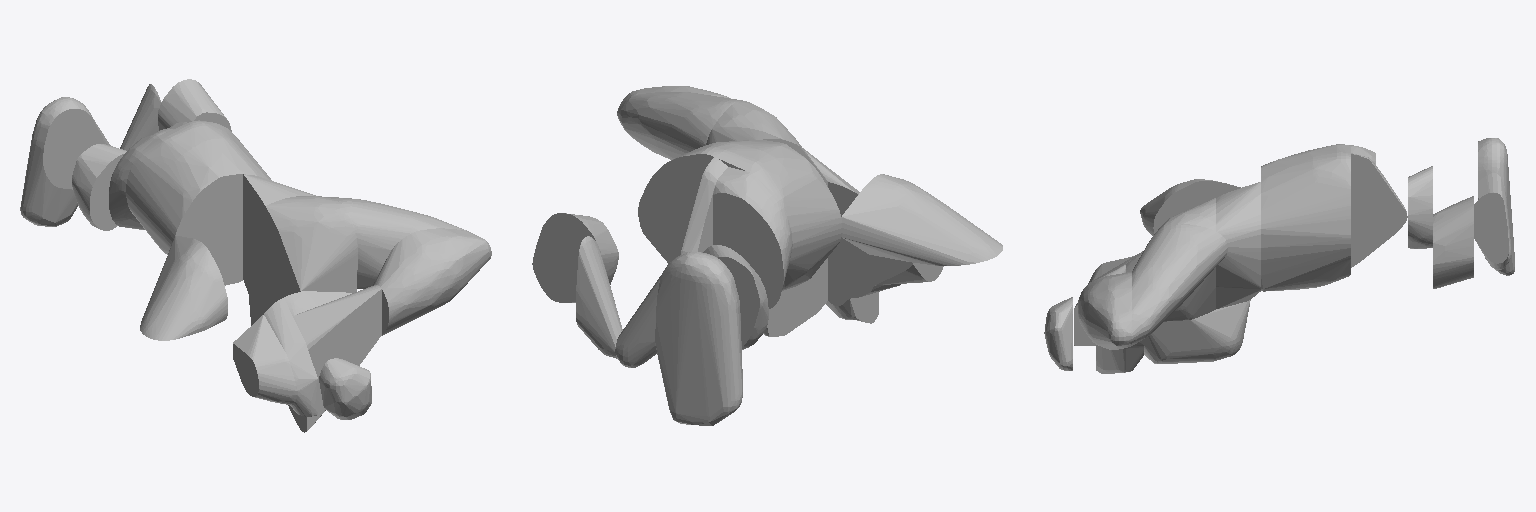
--- What the picture shows (computed from the rendered views, not written in the file) ---
3 views of the same robot in one strip: view 1: azimuth 30°, elevation 25°; view 2: azimuth 150°, elevation 25°; view 3: azimuth 270°, elevation 25° (orthographic).
Robot: root — 30 links, 29 joints (29 fixed); root link link_coacd_convex_piece_0; default pose: all joints at 0.
Links seen in each view (by area): view 1: link_coacd_convex_piece_2, link_coacd_convex_piece_25, link_coacd_convex_piece_0, link_coacd_convex_piece_14, link_coacd_convex_piece_3, link_coacd_convex_piece_23, link_coacd_convex_piece_1, link_coacd_convex_piece_18, link_coacd_convex_piece_29, link_coacd_convex_piece_7, link_coacd_convex_piece_27, link_coacd_convex_piece_28 (+4 smaller); view 2: link_coacd_convex_piece_14, link_coacd_convex_piece_2, link_coacd_convex_piece_3, link_coacd_convex_piece_26, link_coacd_convex_piece_1, link_coacd_convex_piece_5, link_coacd_convex_piece_9, link_coacd_convex_piece_7, link_coacd_convex_piece_17, link_coacd_convex_piece_22, link_coacd_convex_piece_6, link_coacd_convex_piece_15 (+5 smaller); view 3: link_coacd_convex_piece_2, link_coacd_convex_piece_1, link_coacd_convex_piece_29, link_coacd_convex_piece_17, link_coacd_convex_piece_15, link_coacd_convex_piece_0, link_coacd_convex_piece_5, link_coacd_convex_piece_3, link_coacd_convex_piece_9, link_coacd_convex_piece_25, link_coacd_convex_piece_7, link_coacd_convex_piece_28 (+4 smaller).
Boxes of the visible links, x1=… form: link_coacd_convex_piece_2: x1=126, y1=120, x2=271, y2=285; link_coacd_convex_piece_25: x1=265, y1=196, x2=357, y2=308; link_coacd_convex_piece_0: x1=373, y1=228, x2=491, y2=335; link_coacd_convex_piece_14: x1=20, y1=97, x2=96, y2=226; link_coacd_convex_piece_3: x1=140, y1=235, x2=227, y2=340; link_coacd_convex_piece_23: x1=293, y1=285, x2=381, y2=432; link_coacd_convex_piece_1: x1=328, y1=197, x2=466, y2=288; link_coacd_convex_piece_18: x1=233, y1=315, x2=296, y2=404; link_coacd_convex_piece_29: x1=243, y1=174, x2=315, y2=305; link_coacd_convex_piece_7: x1=72, y1=144, x2=126, y2=230; link_coacd_convex_piece_27: x1=264, y1=298, x2=317, y2=416; link_coacd_convex_piece_28: x1=319, y1=358, x2=371, y2=419; link_coacd_convex_piece_14: x1=655, y1=252, x2=742, y2=425; link_coacd_convex_piece_2: x1=638, y1=140, x2=841, y2=290; link_coacd_convex_piece_3: x1=842, y1=174, x2=1002, y2=265; link_coacd_convex_piece_26: x1=713, y1=167, x2=792, y2=308; link_coacd_convex_piece_1: x1=617, y1=92, x2=742, y2=159; link_coacd_convex_piece_5: x1=532, y1=213, x2=618, y2=302; link_coacd_convex_piece_9: x1=576, y1=236, x2=622, y2=358; link_coacd_convex_piece_7: x1=703, y1=245, x2=768, y2=349; link_coacd_convex_piece_17: x1=763, y1=258, x2=827, y2=336; link_coacd_convex_piece_22: x1=826, y1=182, x2=860, y2=320; link_coacd_convex_piece_6: x1=615, y1=276, x2=660, y2=367; link_coacd_convex_piece_15: x1=681, y1=157, x2=727, y2=254; link_coacd_convex_piece_2: x1=1261, y1=144, x2=1350, y2=291; link_coacd_convex_piece_1: x1=1132, y1=224, x2=1227, y2=345; link_coacd_convex_piece_29: x1=1216, y1=182, x2=1260, y2=308; link_coacd_convex_piece_17: x1=1144, y1=300, x2=1250, y2=363; link_coacd_convex_piece_15: x1=1351, y1=153, x2=1407, y2=267; link_coacd_convex_piece_0: x1=1078, y1=272, x2=1131, y2=349; link_coacd_convex_piece_5: x1=1433, y1=196, x2=1473, y2=288; link_coacd_convex_piece_3: x1=1140, y1=179, x2=1240, y2=235; link_coacd_convex_piece_9: x1=1474, y1=193, x2=1508, y2=269; link_coacd_convex_piece_25: x1=1154, y1=198, x2=1215, y2=321; link_coacd_convex_piece_7: x1=1408, y1=166, x2=1432, y2=248; link_coacd_convex_piece_28: x1=1044, y1=297, x2=1072, y2=370.
Size in the robot's own frame: 0.0504 by 0.0623 by 0.0328 metres.
Meshes: 30 distinct files referenced, 19 mesh visuals loaded (19 OBJ); not drawn: 11 (reference not matched to a file when rendering).

The robot description file, URDF, robot "root":
<robot name="root">
  <link name="link_coacd_convex_piece_0">
    <inertial>
      <origin xyz="0 0 0" rpy="0 0 0"/>
      <inertia ixx="3.08E-10" ixy="2.32E-10" ixz="-2.26E-11" iyy="1.85E-10" iyz="1.93E-11" izz="4.90E-10"/>
    </inertial>
    <visual>
      <origin xyz="0 0 0" rpy="0 0 0"/>
      <geometry>
        <mesh filename="coacd_convex_piece_0.obj" scale="1.0000E+00 1.0000E+00 1.0000E+00"/>
      </geometry>
      <material name="">
        <color rgba="7.50E-01 7.50E-01 7.50E-01 1"/>
      </material>
    </visual>
    <collision>
      <origin xyz="0 0 0" rpy="0 0 0"/>
      <geometry>
        <mesh filename="coacd_convex_piece_0.obj" scale="1.0000E+00 1.0000E+00 1.0000E+00"/>
      </geometry>
    </collision>
  </link>
  <link name="link_coacd_convex_piece_1">
    <inertial>
      <origin xyz="0 0 0" rpy="0 0 0"/>
      <inertia ixx="1.88E-10" ixy="1.73E-10" ixz="-5.47E-11" iyy="1.91E-10" iyz="4.83E-11" izz="3.44E-10"/>
    </inertial>
    <visual>
      <origin xyz="0 0 0" rpy="0 0 0"/>
      <geometry>
        <mesh filename="coacd_convex_piece_1.obj" scale="1.0000E+00 1.0000E+00 1.0000E+00"/>
      </geometry>
      <material name="">
        <color rgba="7.50E-01 7.50E-01 7.50E-01 1"/>
      </material>
    </visual>
    <collision>
      <origin xyz="0 0 0" rpy="0 0 0"/>
      <geometry>
        <mesh filename="coacd_convex_piece_1.obj" scale="1.0000E+00 1.0000E+00 1.0000E+00"/>
      </geometry>
    </collision>
  </link>
  <joint name="link_coacd_convex_piece_1_joint" type="fixed">
    <origin xyz="0 0 0" rpy="0 0 0"/>
    <parent link="link_coacd_convex_piece_0"/>
    <child link="link_coacd_convex_piece_1"/>
  </joint>
  <link name="link_coacd_convex_piece_2">
    <inertial>
      <origin xyz="0 0 0" rpy="0 0 0"/>
      <inertia ixx="1.61E-10" ixy="1.76E-11" ixz="2.02E-11" iyy="1.81E-10" iyz="-7.68E-11" izz="7.99E-11"/>
    </inertial>
    <visual>
      <origin xyz="0 0 0" rpy="0 0 0"/>
      <geometry>
        <mesh filename="coacd_convex_piece_2.obj" scale="1.0000E+00 1.0000E+00 1.0000E+00"/>
      </geometry>
      <material name="">
        <color rgba="7.50E-01 7.50E-01 7.50E-01 1"/>
      </material>
    </visual>
    <collision>
      <origin xyz="0 0 0" rpy="0 0 0"/>
      <geometry>
        <mesh filename="coacd_convex_piece_2.obj" scale="1.0000E+00 1.0000E+00 1.0000E+00"/>
      </geometry>
    </collision>
  </link>
  <joint name="link_coacd_convex_piece_2_joint" type="fixed">
    <origin xyz="0 0 0" rpy="0 0 0"/>
    <parent link="link_coacd_convex_piece_1"/>
    <child link="link_coacd_convex_piece_2"/>
  </joint>
  <link name="link_coacd_convex_piece_3">
    <inertial>
      <origin xyz="0 0 0" rpy="0 0 0"/>
      <inertia ixx="6.12E-11" ixy="-6.95E-11" ixz="1.41E-11" iyy="8.54E-11" iyz="9.16E-12" izz="1.43E-10"/>
    </inertial>
    <visual>
      <origin xyz="0 0 0" rpy="0 0 0"/>
      <geometry>
        <mesh filename="coacd_convex_piece_3.obj" scale="1.0000E+00 1.0000E+00 1.0000E+00"/>
      </geometry>
      <material name="">
        <color rgba="7.50E-01 7.50E-01 7.50E-01 1"/>
      </material>
    </visual>
    <collision>
      <origin xyz="0 0 0" rpy="0 0 0"/>
      <geometry>
        <mesh filename="coacd_convex_piece_3.obj" scale="1.0000E+00 1.0000E+00 1.0000E+00"/>
      </geometry>
    </collision>
  </link>
  <joint name="link_coacd_convex_piece_3_joint" type="fixed">
    <origin xyz="0 0 0" rpy="0 0 0"/>
    <parent link="link_coacd_convex_piece_2"/>
    <child link="link_coacd_convex_piece_3"/>
  </joint>
  <link name="link_coacd_convex_piece_4">
    <inertial>
      <origin xyz="0 0 0" rpy="0 0 0"/>
      <inertia ixx="2.09E-10" ixy="8.08E-11" ixz="2.18E-11" iyy="4.99E-11" iyz="-5.84E-11" izz="2.27E-10"/>
    </inertial>
    <visual>
      <origin xyz="0 0 0" rpy="0 0 0"/>
      <geometry>
        <mesh filename="coacd_convex_piece_4.obj" scale="1.0000E+00 1.0000E+00 1.0000E+00"/>
      </geometry>
      <material name="">
        <color rgba="7.50E-01 7.50E-01 7.50E-01 1"/>
      </material>
    </visual>
    <collision>
      <origin xyz="0 0 0" rpy="0 0 0"/>
      <geometry>
        <mesh filename="coacd_convex_piece_4.obj" scale="1.0000E+00 1.0000E+00 1.0000E+00"/>
      </geometry>
    </collision>
  </link>
  <joint name="link_coacd_convex_piece_4_joint" type="fixed">
    <origin xyz="0 0 0" rpy="0 0 0"/>
    <parent link="link_coacd_convex_piece_3"/>
    <child link="link_coacd_convex_piece_4"/>
  </joint>
  <link name="link_coacd_convex_piece_5">
    <inertial>
      <origin xyz="0 0 0" rpy="0 0 0"/>
      <inertia ixx="1.56E-10" ixy="-4.84E-11" ixz="-1.72E-11" iyy="3.41E-11" iyz="-5.09E-11" izz="1.58E-10"/>
    </inertial>
    <visual>
      <origin xyz="0 0 0" rpy="0 0 0"/>
      <geometry>
        <mesh filename="coacd_convex_piece_5.obj" scale="1.0000E+00 1.0000E+00 1.0000E+00"/>
      </geometry>
      <material name="">
        <color rgba="7.50E-01 7.50E-01 7.50E-01 1"/>
      </material>
    </visual>
    <collision>
      <origin xyz="0 0 0" rpy="0 0 0"/>
      <geometry>
        <mesh filename="coacd_convex_piece_5.obj" scale="1.0000E+00 1.0000E+00 1.0000E+00"/>
      </geometry>
    </collision>
  </link>
  <joint name="link_coacd_convex_piece_5_joint" type="fixed">
    <origin xyz="0 0 0" rpy="0 0 0"/>
    <parent link="link_coacd_convex_piece_4"/>
    <child link="link_coacd_convex_piece_5"/>
  </joint>
  <link name="link_coacd_convex_piece_6">
    <inertial>
      <origin xyz="0 0 0" rpy="0 0 0"/>
      <inertia ixx="6.19E-11" ixy="9.01E-12" ixz="1.38E-12" iyy="2.78E-12" iyz="-1.05E-11" izz="6.19E-11"/>
    </inertial>
    <visual>
      <origin xyz="0 0 0" rpy="0 0 0"/>
      <geometry>
        <mesh filename="coacd_convex_piece_6.obj" scale="1.0000E+00 1.0000E+00 1.0000E+00"/>
      </geometry>
      <material name="">
        <color rgba="7.50E-01 7.50E-01 7.50E-01 1"/>
      </material>
    </visual>
    <collision>
      <origin xyz="0 0 0" rpy="0 0 0"/>
      <geometry>
        <mesh filename="coacd_convex_piece_6.obj" scale="1.0000E+00 1.0000E+00 1.0000E+00"/>
      </geometry>
    </collision>
  </link>
  <joint name="link_coacd_convex_piece_6_joint" type="fixed">
    <origin xyz="0 0 0" rpy="0 0 0"/>
    <parent link="link_coacd_convex_piece_5"/>
    <child link="link_coacd_convex_piece_6"/>
  </joint>
  <link name="link_coacd_convex_piece_7">
    <inertial>
      <origin xyz="0 0 0" rpy="0 0 0"/>
      <inertia ixx="6.65E-11" ixy="3.05E-11" ixz="7.58E-12" iyy="1.95E-11" iyz="-1.89E-11" izz="7.67E-11"/>
    </inertial>
    <visual>
      <origin xyz="0 0 0" rpy="0 0 0"/>
      <geometry>
        <mesh filename="coacd_convex_piece_7.obj" scale="1.0000E+00 1.0000E+00 1.0000E+00"/>
      </geometry>
      <material name="">
        <color rgba="7.50E-01 7.50E-01 7.50E-01 1"/>
      </material>
    </visual>
    <collision>
      <origin xyz="0 0 0" rpy="0 0 0"/>
      <geometry>
        <mesh filename="coacd_convex_piece_7.obj" scale="1.0000E+00 1.0000E+00 1.0000E+00"/>
      </geometry>
    </collision>
  </link>
  <joint name="link_coacd_convex_piece_7_joint" type="fixed">
    <origin xyz="0 0 0" rpy="0 0 0"/>
    <parent link="link_coacd_convex_piece_6"/>
    <child link="link_coacd_convex_piece_7"/>
  </joint>
  <link name="link_coacd_convex_piece_8">
    <inertial>
      <origin xyz="0 0 0" rpy="0 0 0"/>
      <inertia ixx="3.96E-10" ixy="-1.10E-10" ixz="-2.25E-11" iyy="5.63E-11" iyz="-7.89E-11" izz="4.09E-10"/>
    </inertial>
    <visual>
      <origin xyz="0 0 0" rpy="0 0 0"/>
      <geometry>
        <mesh filename="coacd_convex_piece_8.obj" scale="1.0000E+00 1.0000E+00 1.0000E+00"/>
      </geometry>
      <material name="">
        <color rgba="7.50E-01 7.50E-01 7.50E-01 1"/>
      </material>
    </visual>
    <collision>
      <origin xyz="0 0 0" rpy="0 0 0"/>
      <geometry>
        <mesh filename="coacd_convex_piece_8.obj" scale="1.0000E+00 1.0000E+00 1.0000E+00"/>
      </geometry>
    </collision>
  </link>
  <joint name="link_coacd_convex_piece_8_joint" type="fixed">
    <origin xyz="0 0 0" rpy="0 0 0"/>
    <parent link="link_coacd_convex_piece_7"/>
    <child link="link_coacd_convex_piece_8"/>
  </joint>
  <link name="link_coacd_convex_piece_9">
    <inertial>
      <origin xyz="0 0 0" rpy="0 0 0"/>
      <inertia ixx="6.58E-11" ixy="-4.61E-12" ixz="-1.37E-12" iyy="3.10E-12" iyz="-1.37E-11" izz="6.36E-11"/>
    </inertial>
    <visual>
      <origin xyz="0 0 0" rpy="0 0 0"/>
      <geometry>
        <mesh filename="coacd_convex_piece_9.obj" scale="1.0000E+00 1.0000E+00 1.0000E+00"/>
      </geometry>
      <material name="">
        <color rgba="7.50E-01 7.50E-01 7.50E-01 1"/>
      </material>
    </visual>
    <collision>
      <origin xyz="0 0 0" rpy="0 0 0"/>
      <geometry>
        <mesh filename="coacd_convex_piece_9.obj" scale="1.0000E+00 1.0000E+00 1.0000E+00"/>
      </geometry>
    </collision>
  </link>
  <joint name="link_coacd_convex_piece_9_joint" type="fixed">
    <origin xyz="0 0 0" rpy="0 0 0"/>
    <parent link="link_coacd_convex_piece_8"/>
    <child link="link_coacd_convex_piece_9"/>
  </joint>
  <link name="link_coacd_convex_piece_10">
    <inertial>
      <origin xyz="0 0 0" rpy="0 0 0"/>
      <inertia ixx="8.57E-11" ixy="-6.54E-12" ixz="-5.65E-12" iyy="2.89E-11" iyz="-4.21E-11" izz="6.00E-11"/>
    </inertial>
    <visual>
      <origin xyz="0 0 0" rpy="0 0 0"/>
      <geometry>
        <mesh filename="coacd_convex_piece_10.obj" scale="1.0000E+00 1.0000E+00 1.0000E+00"/>
      </geometry>
      <material name="">
        <color rgba="7.50E-01 7.50E-01 7.50E-01 1"/>
      </material>
    </visual>
    <collision>
      <origin xyz="0 0 0" rpy="0 0 0"/>
      <geometry>
        <mesh filename="coacd_convex_piece_10.obj" scale="1.0000E+00 1.0000E+00 1.0000E+00"/>
      </geometry>
    </collision>
  </link>
  <joint name="link_coacd_convex_piece_10_joint" type="fixed">
    <origin xyz="0 0 0" rpy="0 0 0"/>
    <parent link="link_coacd_convex_piece_9"/>
    <child link="link_coacd_convex_piece_10"/>
  </joint>
  <link name="link_coacd_convex_piece_11">
    <inertial>
      <origin xyz="0 0 0" rpy="0 0 0"/>
      <inertia ixx="1.57E-10" ixy="-1.57E-10" ixz="-2.83E-11" iyy="1.71E-10" iyz="-3.17E-11" izz="3.26E-10"/>
    </inertial>
    <visual>
      <origin xyz="0 0 0" rpy="0 0 0"/>
      <geometry>
        <mesh filename="coacd_convex_piece_11.obj" scale="1.0000E+00 1.0000E+00 1.0000E+00"/>
      </geometry>
      <material name="">
        <color rgba="7.50E-01 7.50E-01 7.50E-01 1"/>
      </material>
    </visual>
    <collision>
      <origin xyz="0 0 0" rpy="0 0 0"/>
      <geometry>
        <mesh filename="coacd_convex_piece_11.obj" scale="1.0000E+00 1.0000E+00 1.0000E+00"/>
      </geometry>
    </collision>
  </link>
  <joint name="link_coacd_convex_piece_11_joint" type="fixed">
    <origin xyz="0 0 0" rpy="0 0 0"/>
    <parent link="link_coacd_convex_piece_10"/>
    <child link="link_coacd_convex_piece_11"/>
  </joint>
  <link name="link_coacd_convex_piece_12">
    <inertial>
      <origin xyz="0 0 0" rpy="0 0 0"/>
      <inertia ixx="1.33E-10" ixy="-5.19E-11" ixz="-2.55E-11" iyy="5.14E-11" iyz="-5.50E-11" izz="1.34E-10"/>
    </inertial>
    <visual>
      <origin xyz="0 0 0" rpy="0 0 0"/>
      <geometry>
        <mesh filename="coacd_convex_piece_12.obj" scale="1.0000E+00 1.0000E+00 1.0000E+00"/>
      </geometry>
      <material name="">
        <color rgba="7.50E-01 7.50E-01 7.50E-01 1"/>
      </material>
    </visual>
    <collision>
      <origin xyz="0 0 0" rpy="0 0 0"/>
      <geometry>
        <mesh filename="coacd_convex_piece_12.obj" scale="1.0000E+00 1.0000E+00 1.0000E+00"/>
      </geometry>
    </collision>
  </link>
  <joint name="link_coacd_convex_piece_12_joint" type="fixed">
    <origin xyz="0 0 0" rpy="0 0 0"/>
    <parent link="link_coacd_convex_piece_11"/>
    <child link="link_coacd_convex_piece_12"/>
  </joint>
  <link name="link_coacd_convex_piece_13">
    <inertial>
      <origin xyz="0 0 0" rpy="0 0 0"/>
      <inertia ixx="1.74E-10" ixy="-1.47E-10" ixz="-5.56E-11" iyy="1.69E-10" iyz="-6.07E-11" izz="3.07E-10"/>
    </inertial>
    <visual>
      <origin xyz="0 0 0" rpy="0 0 0"/>
      <geometry>
        <mesh filename="coacd_convex_piece_13.obj" scale="1.0000E+00 1.0000E+00 1.0000E+00"/>
      </geometry>
      <material name="">
        <color rgba="7.50E-01 7.50E-01 7.50E-01 1"/>
      </material>
    </visual>
    <collision>
      <origin xyz="0 0 0" rpy="0 0 0"/>
      <geometry>
        <mesh filename="coacd_convex_piece_13.obj" scale="1.0000E+00 1.0000E+00 1.0000E+00"/>
      </geometry>
    </collision>
  </link>
  <joint name="link_coacd_convex_piece_13_joint" type="fixed">
    <origin xyz="0 0 0" rpy="0 0 0"/>
    <parent link="link_coacd_convex_piece_12"/>
    <child link="link_coacd_convex_piece_13"/>
  </joint>
  <link name="link_coacd_convex_piece_14">
    <inertial>
      <origin xyz="0 0 0" rpy="0 0 0"/>
      <inertia ixx="3.69E-10" ixy="1.34E-10" ixz="2.04E-11" iyy="6.87E-11" iyz="-6.28E-11" izz="4.04E-10"/>
    </inertial>
    <visual>
      <origin xyz="0 0 0" rpy="0 0 0"/>
      <geometry>
        <mesh filename="coacd_convex_piece_14.obj" scale="1.0000E+00 1.0000E+00 1.0000E+00"/>
      </geometry>
      <material name="">
        <color rgba="7.50E-01 7.50E-01 7.50E-01 1"/>
      </material>
    </visual>
    <collision>
      <origin xyz="0 0 0" rpy="0 0 0"/>
      <geometry>
        <mesh filename="coacd_convex_piece_14.obj" scale="1.0000E+00 1.0000E+00 1.0000E+00"/>
      </geometry>
    </collision>
  </link>
  <joint name="link_coacd_convex_piece_14_joint" type="fixed">
    <origin xyz="0 0 0" rpy="0 0 0"/>
    <parent link="link_coacd_convex_piece_13"/>
    <child link="link_coacd_convex_piece_14"/>
  </joint>
  <link name="link_coacd_convex_piece_15">
    <inertial>
      <origin xyz="0 0 0" rpy="0 0 0"/>
      <inertia ixx="2.07E-11" ixy="2.87E-12" ixz="1.56E-12" iyy="7.66E-12" iyz="-1.05E-11" izz="1.39E-11"/>
    </inertial>
    <visual>
      <origin xyz="0 0 0" rpy="0 0 0"/>
      <geometry>
        <mesh filename="coacd_convex_piece_15.obj" scale="1.0000E+00 1.0000E+00 1.0000E+00"/>
      </geometry>
      <material name="">
        <color rgba="7.50E-01 7.50E-01 7.50E-01 1"/>
      </material>
    </visual>
    <collision>
      <origin xyz="0 0 0" rpy="0 0 0"/>
      <geometry>
        <mesh filename="coacd_convex_piece_15.obj" scale="1.0000E+00 1.0000E+00 1.0000E+00"/>
      </geometry>
    </collision>
  </link>
  <joint name="link_coacd_convex_piece_15_joint" type="fixed">
    <origin xyz="0 0 0" rpy="0 0 0"/>
    <parent link="link_coacd_convex_piece_14"/>
    <child link="link_coacd_convex_piece_15"/>
  </joint>
  <link name="link_coacd_convex_piece_16">
    <inertial>
      <origin xyz="0 0 0" rpy="0 0 0"/>
      <inertia ixx="1.23E-10" ixy="-2.38E-11" ixz="-1.28E-11" iyy="3.54E-11" iyz="-5.61E-11" izz="1.06E-10"/>
    </inertial>
    <visual>
      <origin xyz="0 0 0" rpy="0 0 0"/>
      <geometry>
        <mesh filename="coacd_convex_piece_16.obj" scale="1.0000E+00 1.0000E+00 1.0000E+00"/>
      </geometry>
      <material name="">
        <color rgba="7.50E-01 7.50E-01 7.50E-01 1"/>
      </material>
    </visual>
    <collision>
      <origin xyz="0 0 0" rpy="0 0 0"/>
      <geometry>
        <mesh filename="coacd_convex_piece_16.obj" scale="1.0000E+00 1.0000E+00 1.0000E+00"/>
      </geometry>
    </collision>
  </link>
  <joint name="link_coacd_convex_piece_16_joint" type="fixed">
    <origin xyz="0 0 0" rpy="0 0 0"/>
    <parent link="link_coacd_convex_piece_15"/>
    <child link="link_coacd_convex_piece_16"/>
  </joint>
  <link name="link_coacd_convex_piece_17">
    <inertial>
      <origin xyz="0 0 0" rpy="0 0 0"/>
      <inertia ixx="8.29E-11" ixy="1.52E-11" ixz="7.11E-12" iyy="2.53E-11" iyz="-4.01E-11" izz="6.52E-11"/>
    </inertial>
    <visual>
      <origin xyz="0 0 0" rpy="0 0 0"/>
      <geometry>
        <mesh filename="coacd_convex_piece_17.obj" scale="1.0000E+00 1.0000E+00 1.0000E+00"/>
      </geometry>
      <material name="">
        <color rgba="7.50E-01 7.50E-01 7.50E-01 1"/>
      </material>
    </visual>
    <collision>
      <origin xyz="0 0 0" rpy="0 0 0"/>
      <geometry>
        <mesh filename="coacd_convex_piece_17.obj" scale="1.0000E+00 1.0000E+00 1.0000E+00"/>
      </geometry>
    </collision>
  </link>
  <joint name="link_coacd_convex_piece_17_joint" type="fixed">
    <origin xyz="0 0 0" rpy="0 0 0"/>
    <parent link="link_coacd_convex_piece_16"/>
    <child link="link_coacd_convex_piece_17"/>
  </joint>
  <link name="link_coacd_convex_piece_18">
    <inertial>
      <origin xyz="0 0 0" rpy="0 0 0"/>
      <inertia ixx="9.47E-11" ixy="-3.03E-11" ixz="-8.78E-12" iyy="1.67E-11" iyz="-2.63E-11" izz="9.95E-11"/>
    </inertial>
    <visual>
      <origin xyz="0 0 0" rpy="0 0 0"/>
      <geometry>
        <mesh filename="coacd_convex_piece_18.obj" scale="1.0000E+00 1.0000E+00 1.0000E+00"/>
      </geometry>
      <material name="">
        <color rgba="7.50E-01 7.50E-01 7.50E-01 1"/>
      </material>
    </visual>
    <collision>
      <origin xyz="0 0 0" rpy="0 0 0"/>
      <geometry>
        <mesh filename="coacd_convex_piece_18.obj" scale="1.0000E+00 1.0000E+00 1.0000E+00"/>
      </geometry>
    </collision>
  </link>
  <joint name="link_coacd_convex_piece_18_joint" type="fixed">
    <origin xyz="0 0 0" rpy="0 0 0"/>
    <parent link="link_coacd_convex_piece_17"/>
    <child link="link_coacd_convex_piece_18"/>
  </joint>
  <link name="link_coacd_convex_piece_19">
    <inertial>
      <origin xyz="0 0 0" rpy="0 0 0"/>
      <inertia ixx="1.64E-10" ixy="-5.97E-11" ixz="1.82E-11" iyy="6.75E-11" iyz="2.48E-11" izz="1.80E-10"/>
    </inertial>
    <visual>
      <origin xyz="0 0 0" rpy="0 0 0"/>
      <geometry>
        <mesh filename="coacd_convex_piece_19.obj" scale="1.0000E+00 1.0000E+00 1.0000E+00"/>
      </geometry>
      <material name="">
        <color rgba="7.50E-01 7.50E-01 7.50E-01 1"/>
      </material>
    </visual>
    <collision>
      <origin xyz="0 0 0" rpy="0 0 0"/>
      <geometry>
        <mesh filename="coacd_convex_piece_19.obj" scale="1.0000E+00 1.0000E+00 1.0000E+00"/>
      </geometry>
    </collision>
  </link>
  <joint name="link_coacd_convex_piece_19_joint" type="fixed">
    <origin xyz="0 0 0" rpy="0 0 0"/>
    <parent link="link_coacd_convex_piece_18"/>
    <child link="link_coacd_convex_piece_19"/>
  </joint>
  <link name="link_coacd_convex_piece_20">
    <inertial>
      <origin xyz="0 0 0" rpy="0 0 0"/>
      <inertia ixx="1.86E-11" ixy="-1.81E-12" ixz="-1.16E-12" iyy="4.91E-12" iyz="-8.48E-12" izz="1.42E-11"/>
    </inertial>
    <visual>
      <origin xyz="0 0 0" rpy="0 0 0"/>
      <geometry>
        <mesh filename="coacd_convex_piece_20.obj" scale="1.0000E+00 1.0000E+00 1.0000E+00"/>
      </geometry>
      <material name="">
        <color rgba="7.50E-01 7.50E-01 7.50E-01 1"/>
      </material>
    </visual>
    <collision>
      <origin xyz="0 0 0" rpy="0 0 0"/>
      <geometry>
        <mesh filename="coacd_convex_piece_20.obj" scale="1.0000E+00 1.0000E+00 1.0000E+00"/>
      </geometry>
    </collision>
  </link>
  <joint name="link_coacd_convex_piece_20_joint" type="fixed">
    <origin xyz="0 0 0" rpy="0 0 0"/>
    <parent link="link_coacd_convex_piece_19"/>
    <child link="link_coacd_convex_piece_20"/>
  </joint>
  <link name="link_coacd_convex_piece_21">
    <inertial>
      <origin xyz="0 0 0" rpy="0 0 0"/>
      <inertia ixx="6.91E-11" ixy="3.16E-11" ixz="1.23E-11" iyy="2.96E-11" iyz="-2.83E-11" izz="7.44E-11"/>
    </inertial>
    <visual>
      <origin xyz="0 0 0" rpy="0 0 0"/>
      <geometry>
        <mesh filename="coacd_convex_piece_21.obj" scale="1.0000E+00 1.0000E+00 1.0000E+00"/>
      </geometry>
      <material name="">
        <color rgba="7.50E-01 7.50E-01 7.50E-01 1"/>
      </material>
    </visual>
    <collision>
      <origin xyz="0 0 0" rpy="0 0 0"/>
      <geometry>
        <mesh filename="coacd_convex_piece_21.obj" scale="1.0000E+00 1.0000E+00 1.0000E+00"/>
      </geometry>
    </collision>
  </link>
  <joint name="link_coacd_convex_piece_21_joint" type="fixed">
    <origin xyz="0 0 0" rpy="0 0 0"/>
    <parent link="link_coacd_convex_piece_20"/>
    <child link="link_coacd_convex_piece_21"/>
  </joint>
  <link name="link_coacd_convex_piece_22">
    <inertial>
      <origin xyz="0 0 0" rpy="0 0 0"/>
      <inertia ixx="9.23E-11" ixy="9.77E-12" ixz="1.38E-12" iyy="1.11E-11" iyz="-2.63E-11" izz="8.66E-11"/>
    </inertial>
    <visual>
      <origin xyz="0 0 0" rpy="0 0 0"/>
      <geometry>
        <mesh filename="coacd_convex_piece_22.obj" scale="1.0000E+00 1.0000E+00 1.0000E+00"/>
      </geometry>
      <material name="">
        <color rgba="7.50E-01 7.50E-01 7.50E-01 1"/>
      </material>
    </visual>
    <collision>
      <origin xyz="0 0 0" rpy="0 0 0"/>
      <geometry>
        <mesh filename="coacd_convex_piece_22.obj" scale="1.0000E+00 1.0000E+00 1.0000E+00"/>
      </geometry>
    </collision>
  </link>
  <joint name="link_coacd_convex_piece_22_joint" type="fixed">
    <origin xyz="0 0 0" rpy="0 0 0"/>
    <parent link="link_coacd_convex_piece_21"/>
    <child link="link_coacd_convex_piece_22"/>
  </joint>
  <link name="link_coacd_convex_piece_23">
    <inertial>
      <origin xyz="0 0 0" rpy="0 0 0"/>
      <inertia ixx="2.25E-10" ixy="2.71E-11" ixz="2.45E-12" iyy="2.34E-11" iyz="-5.47E-11" izz="2.15E-10"/>
    </inertial>
    <visual>
      <origin xyz="0 0 0" rpy="0 0 0"/>
      <geometry>
        <mesh filename="coacd_convex_piece_23.obj" scale="1.0000E+00 1.0000E+00 1.0000E+00"/>
      </geometry>
      <material name="">
        <color rgba="7.50E-01 7.50E-01 7.50E-01 1"/>
      </material>
    </visual>
    <collision>
      <origin xyz="0 0 0" rpy="0 0 0"/>
      <geometry>
        <mesh filename="coacd_convex_piece_23.obj" scale="1.0000E+00 1.0000E+00 1.0000E+00"/>
      </geometry>
    </collision>
  </link>
  <joint name="link_coacd_convex_piece_23_joint" type="fixed">
    <origin xyz="0 0 0" rpy="0 0 0"/>
    <parent link="link_coacd_convex_piece_22"/>
    <child link="link_coacd_convex_piece_23"/>
  </joint>
  <link name="link_coacd_convex_piece_24">
    <inertial>
      <origin xyz="0 0 0" rpy="0 0 0"/>
      <inertia ixx="1.76E-10" ixy="1.76E-11" ixz="1.90E-12" iyy="1.51E-11" iyz="-4.26E-11" izz="1.69E-10"/>
    </inertial>
    <visual>
      <origin xyz="0 0 0" rpy="0 0 0"/>
      <geometry>
        <mesh filename="coacd_convex_piece_24.obj" scale="1.0000E+00 1.0000E+00 1.0000E+00"/>
      </geometry>
      <material name="">
        <color rgba="7.50E-01 7.50E-01 7.50E-01 1"/>
      </material>
    </visual>
    <collision>
      <origin xyz="0 0 0" rpy="0 0 0"/>
      <geometry>
        <mesh filename="coacd_convex_piece_24.obj" scale="1.0000E+00 1.0000E+00 1.0000E+00"/>
      </geometry>
    </collision>
  </link>
  <joint name="link_coacd_convex_piece_24_joint" type="fixed">
    <origin xyz="0 0 0" rpy="0 0 0"/>
    <parent link="link_coacd_convex_piece_23"/>
    <child link="link_coacd_convex_piece_24"/>
  </joint>
  <link name="link_coacd_convex_piece_25">
    <inertial>
      <origin xyz="0 0 0" rpy="0 0 0"/>
      <inertia ixx="1.60E-10" ixy="5.52E-11" ixz="-1.66E-11" iyy="3.91E-11" iyz="2.65E-11" izz="1.67E-10"/>
    </inertial>
    <visual>
      <origin xyz="0 0 0" rpy="0 0 0"/>
      <geometry>
        <mesh filename="coacd_convex_piece_25.obj" scale="1.0000E+00 1.0000E+00 1.0000E+00"/>
      </geometry>
      <material name="">
        <color rgba="7.50E-01 7.50E-01 7.50E-01 1"/>
      </material>
    </visual>
    <collision>
      <origin xyz="0 0 0" rpy="0 0 0"/>
      <geometry>
        <mesh filename="coacd_convex_piece_25.obj" scale="1.0000E+00 1.0000E+00 1.0000E+00"/>
      </geometry>
    </collision>
  </link>
  <joint name="link_coacd_convex_piece_25_joint" type="fixed">
    <origin xyz="0 0 0" rpy="0 0 0"/>
    <parent link="link_coacd_convex_piece_24"/>
    <child link="link_coacd_convex_piece_25"/>
  </joint>
  <link name="link_coacd_convex_piece_26">
    <inertial>
      <origin xyz="0 0 0" rpy="0 0 0"/>
      <inertia ixx="4.49E-11" ixy="1.92E-11" ixz="1.30E-11" iyy="3.03E-11" iyz="-2.40E-11" izz="4.00E-11"/>
    </inertial>
    <visual>
      <origin xyz="0 0 0" rpy="0 0 0"/>
      <geometry>
        <mesh filename="coacd_convex_piece_26.obj" scale="1.0000E+00 1.0000E+00 1.0000E+00"/>
      </geometry>
      <material name="">
        <color rgba="7.50E-01 7.50E-01 7.50E-01 1"/>
      </material>
    </visual>
    <collision>
      <origin xyz="0 0 0" rpy="0 0 0"/>
      <geometry>
        <mesh filename="coacd_convex_piece_26.obj" scale="1.0000E+00 1.0000E+00 1.0000E+00"/>
      </geometry>
    </collision>
  </link>
  <joint name="link_coacd_convex_piece_26_joint" type="fixed">
    <origin xyz="0 0 0" rpy="0 0 0"/>
    <parent link="link_coacd_convex_piece_25"/>
    <child link="link_coacd_convex_piece_26"/>
  </joint>
  <link name="link_coacd_convex_piece_27">
    <inertial>
      <origin xyz="0 0 0" rpy="0 0 0"/>
      <inertia ixx="1.08E-10" ixy="-1.63E-11" ixz="-5.40E-12" iyy="1.17E-11" iyz="-3.15E-11" izz="1.02E-10"/>
    </inertial>
    <visual>
      <origin xyz="0 0 0" rpy="0 0 0"/>
      <geometry>
        <mesh filename="coacd_convex_piece_27.obj" scale="1.0000E+00 1.0000E+00 1.0000E+00"/>
      </geometry>
      <material name="">
        <color rgba="7.50E-01 7.50E-01 7.50E-01 1"/>
      </material>
    </visual>
    <collision>
      <origin xyz="0 0 0" rpy="0 0 0"/>
      <geometry>
        <mesh filename="coacd_convex_piece_27.obj" scale="1.0000E+00 1.0000E+00 1.0000E+00"/>
      </geometry>
    </collision>
  </link>
  <joint name="link_coacd_convex_piece_27_joint" type="fixed">
    <origin xyz="0 0 0" rpy="0 0 0"/>
    <parent link="link_coacd_convex_piece_26"/>
    <child link="link_coacd_convex_piece_27"/>
  </joint>
  <link name="link_coacd_convex_piece_28">
    <inertial>
      <origin xyz="0 0 0" rpy="0 0 0"/>
      <inertia ixx="9.57E-11" ixy="4.47E-12" ixz="1.07E-12" iyy="7.77E-12" iyz="-2.71E-11" izz="8.88E-11"/>
    </inertial>
    <visual>
      <origin xyz="0 0 0" rpy="0 0 0"/>
      <geometry>
        <mesh filename="coacd_convex_piece_28.obj" scale="1.0000E+00 1.0000E+00 1.0000E+00"/>
      </geometry>
      <material name="">
        <color rgba="7.50E-01 7.50E-01 7.50E-01 1"/>
      </material>
    </visual>
    <collision>
      <origin xyz="0 0 0" rpy="0 0 0"/>
      <geometry>
        <mesh filename="coacd_convex_piece_28.obj" scale="1.0000E+00 1.0000E+00 1.0000E+00"/>
      </geometry>
    </collision>
  </link>
  <joint name="link_coacd_convex_piece_28_joint" type="fixed">
    <origin xyz="0 0 0" rpy="0 0 0"/>
    <parent link="link_coacd_convex_piece_27"/>
    <child link="link_coacd_convex_piece_28"/>
  </joint>
  <link name="link_coacd_convex_piece_29">
    <inertial>
      <origin xyz="0 0 0" rpy="0 0 0"/>
      <inertia ixx="2.76E-11" ixy="1.14E-11" ixz="-1.01E-11" iyy="2.28E-11" iyz="9.09E-12" izz="2.09E-11"/>
    </inertial>
    <visual>
      <origin xyz="0 0 0" rpy="0 0 0"/>
      <geometry>
        <mesh filename="coacd_convex_piece_29.obj" scale="1.0000E+00 1.0000E+00 1.0000E+00"/>
      </geometry>
      <material name="">
        <color rgba="7.50E-01 7.50E-01 7.50E-01 1"/>
      </material>
    </visual>
    <collision>
      <origin xyz="0 0 0" rpy="0 0 0"/>
      <geometry>
        <mesh filename="coacd_convex_piece_29.obj" scale="1.0000E+00 1.0000E+00 1.0000E+00"/>
      </geometry>
    </collision>
  </link>
  <joint name="link_coacd_convex_piece_29_joint" type="fixed">
    <origin xyz="0 0 0" rpy="0 0 0"/>
    <parent link="link_coacd_convex_piece_28"/>
    <child link="link_coacd_convex_piece_29"/>
  </joint>
</robot>
